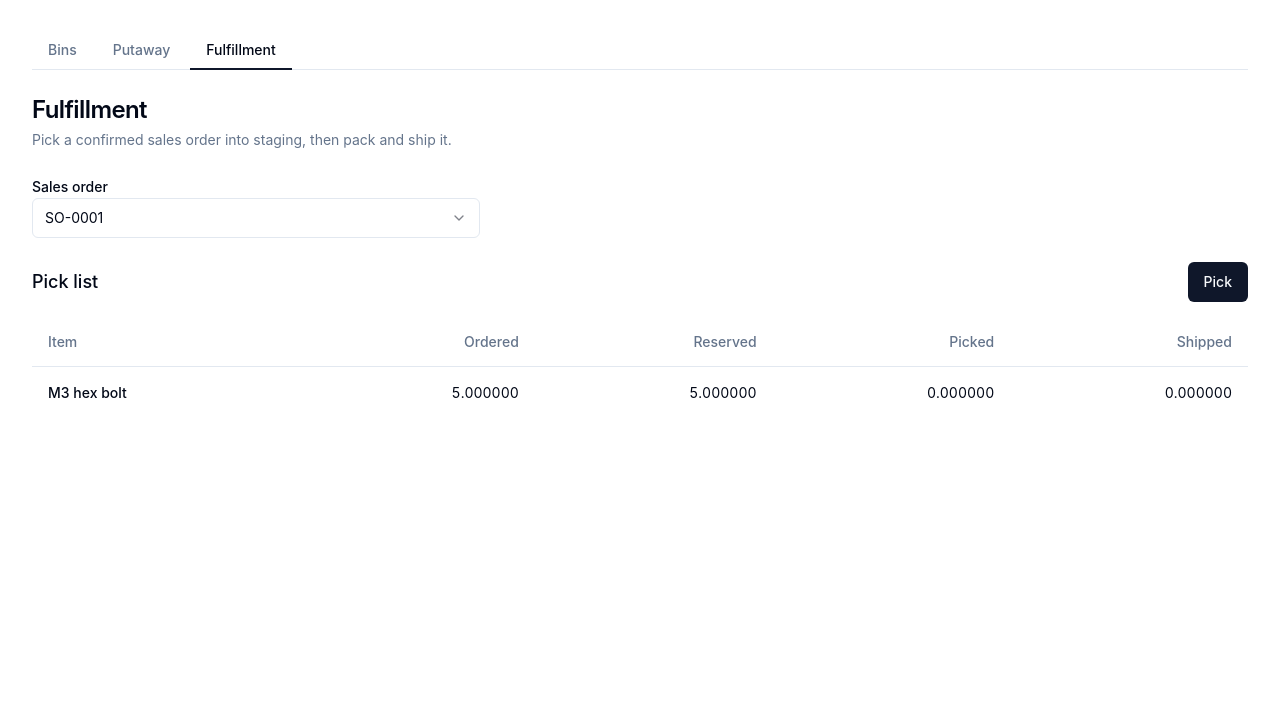
Scenario: Fulfillment screen › pre-fills the suggested source bin in the pick dialog
Expected: the text "M3 hex bolt" is shown, [32,366,297,418]
Click the button "Pick": x=1218, y=282 [1188,262,1248,302]
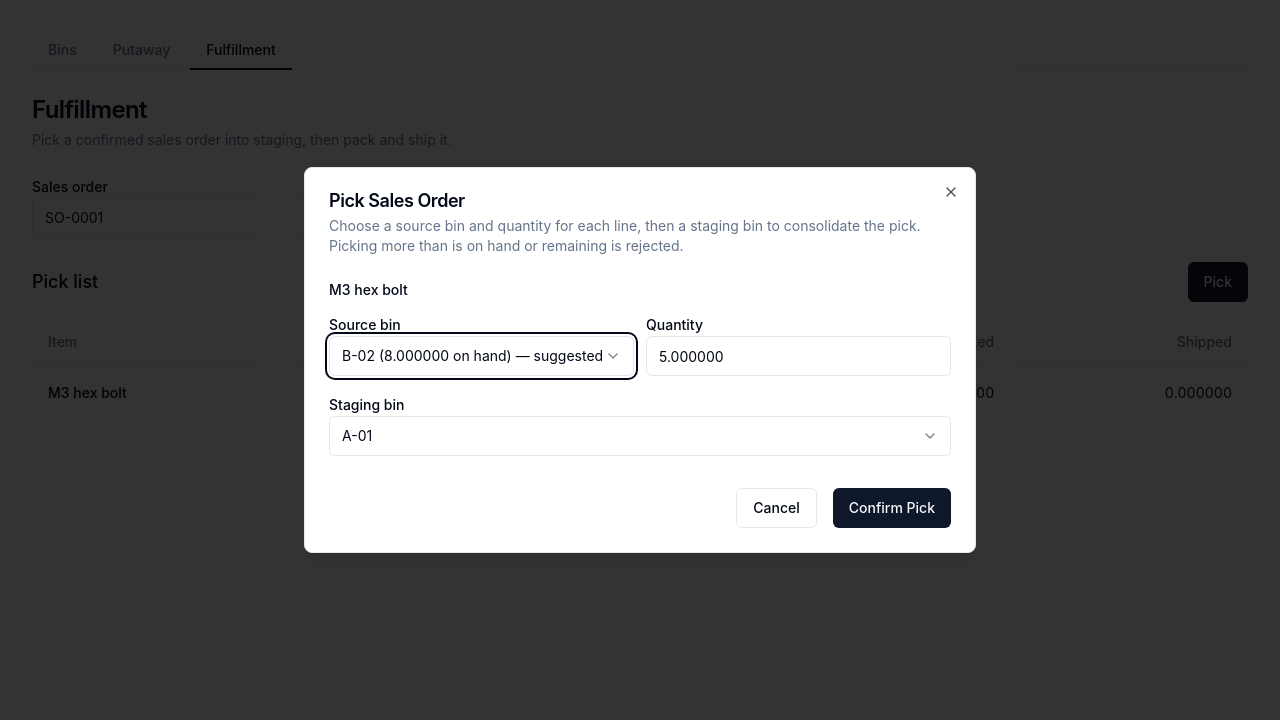
Now the heading "Pick Sales Order" is shown, box [329,190,465,211]
Now the dropdown named "Source bin" shows "B-02", box [329,336,634,376]
Now the field labelled "Quantity" holds "5.000000", box [646,336,951,376]
